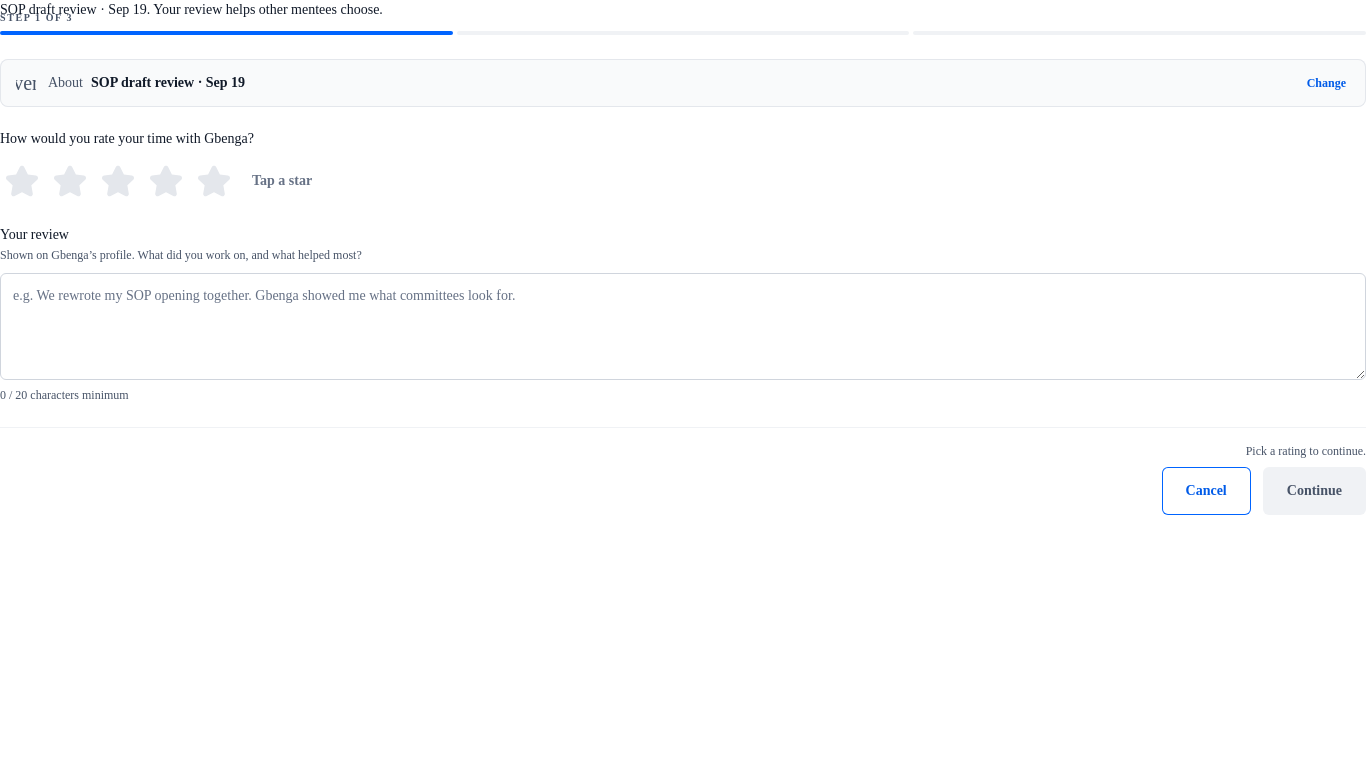
it: ReviewFlow › several sessions: the newest on one line; "Change" opens every choice (design `compact`)
Check: the text "SOP draft review · Sep 19" is shown, box left=91, top=75, right=245, bottom=91
Check: the element "Which session is this about?" is not shown
Click the button with aria-label "Change session. 2 sessions to review".
click(1326, 83)  # box left=1299, top=67, right=1354, bottom=99
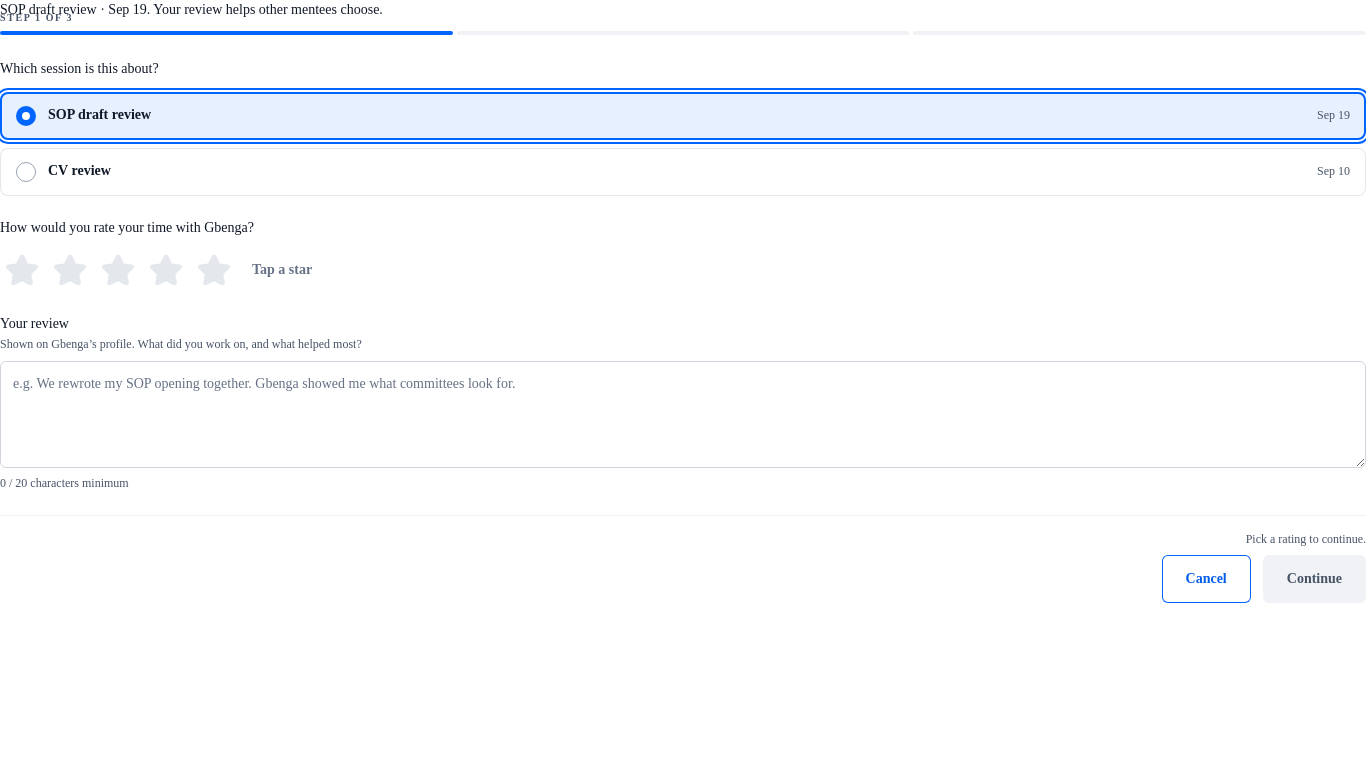
Note: Picking folds it back, and focus returns to "Change".
Click the radio button labelled "CV review Sep 10".
click(79, 171)  # box left=0, top=148, right=1365, bottom=196
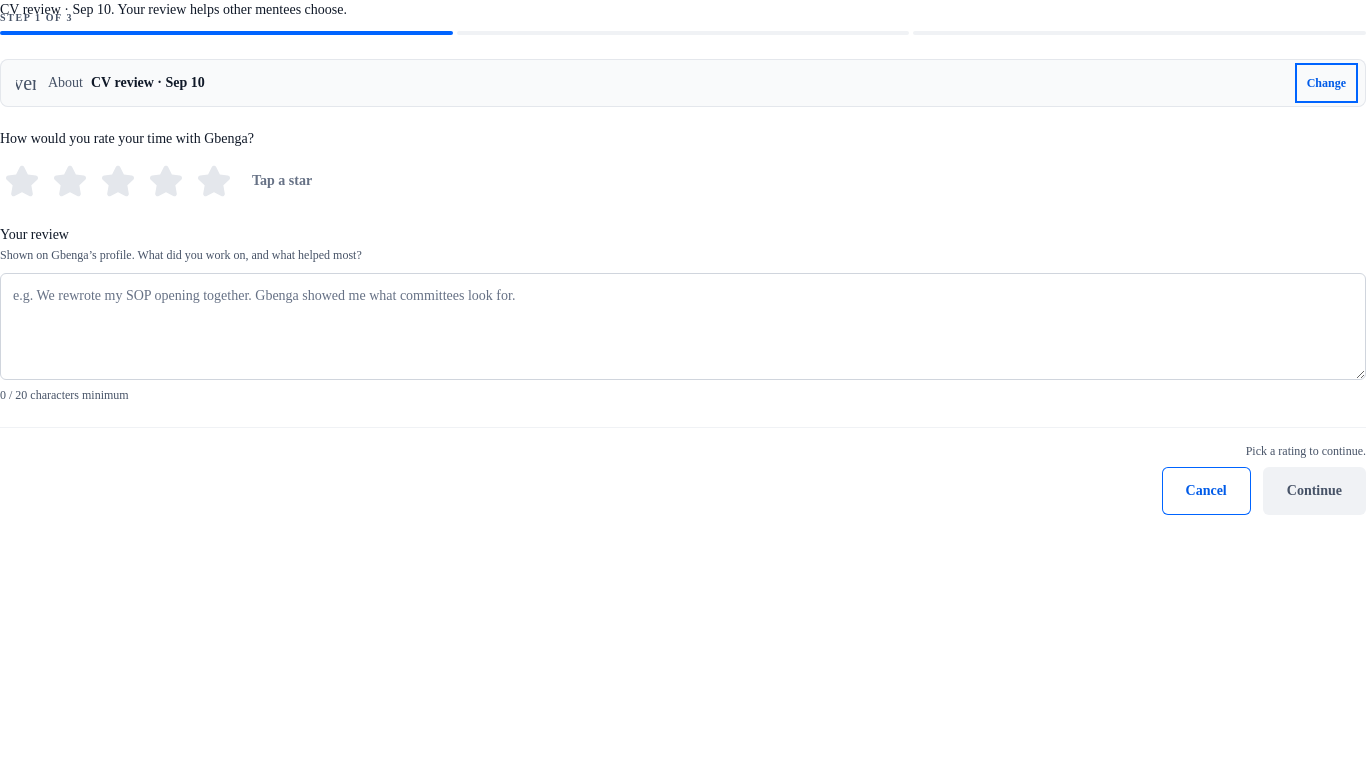
Check: the text "Which session is this about?" is gone
Check: the text "CV review · Sep 10" is shown, box left=91, top=75, right=205, bottom=91
